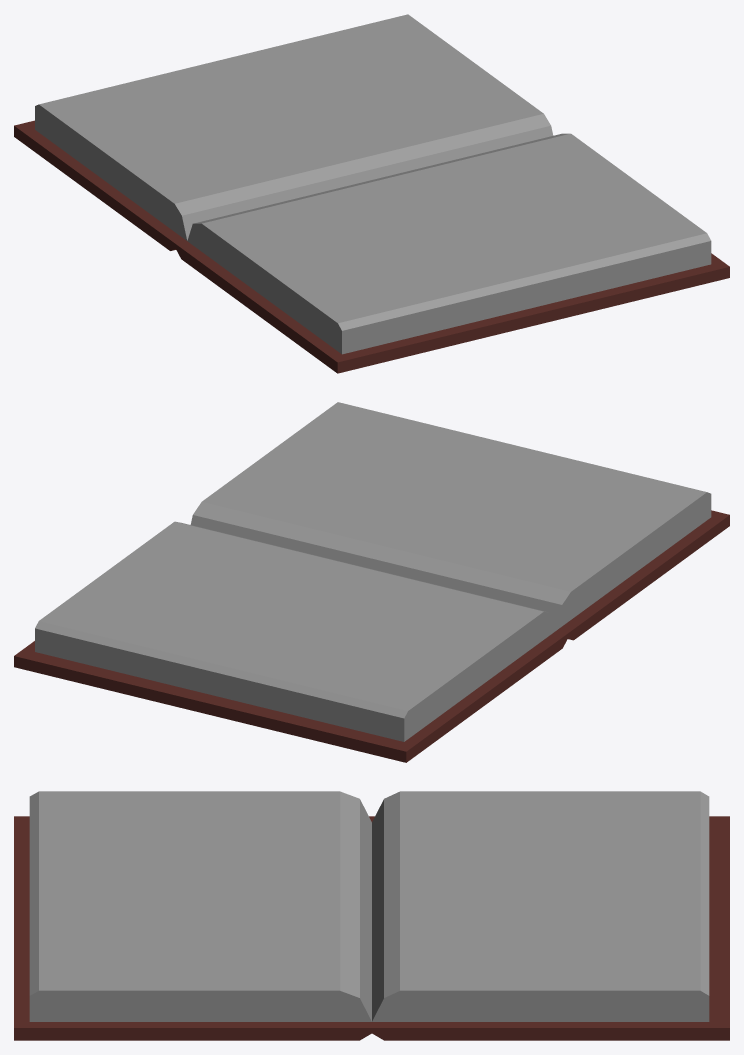
File: book_open.fbx
The picture shows the model from 3 angles, top to bottom: view 1: azimuth 30°, elevation 25°; view 2: azimuth 150°, elevation 25°; view 3: azimuth 270°, elevation 25°; orthographic projection. The views are drawn at different scales.
Visible parts, largest first — view 1: Plane; view 2: Plane; view 3: Plane.
Boxes of the visible parts, x1,y1,x2,y2 form: Plane: (14, 14, 729, 373); Plane: (14, 402, 729, 762); Plane: (14, 791, 729, 1040).
Bounding box in the file's own units: 140 × 13.4 × 200.
